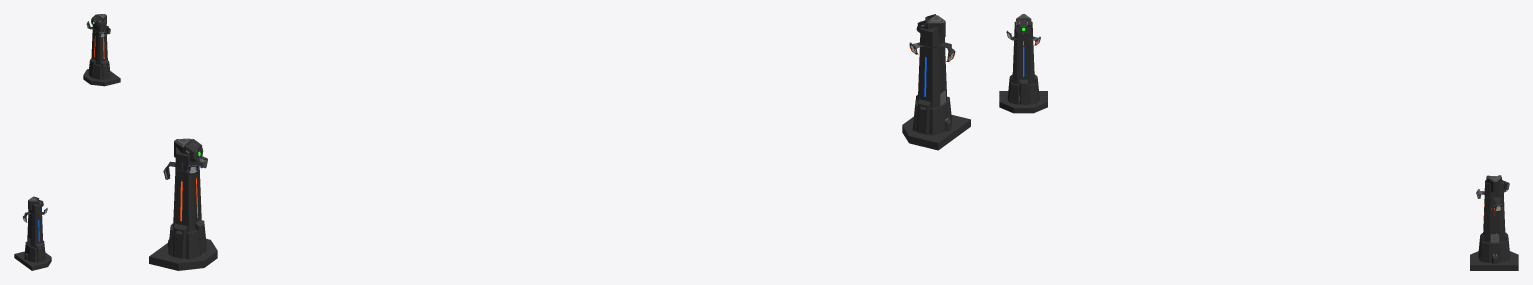
Rendered from OUTPOST.glb.
3 renders of one model, left to right at view 1: azimuth 30°, elevation 25°; view 2: azimuth 150°, elevation 25°; view 3: azimuth 270°, elevation 25°, orthographic. The views are drawn at different scales.
Visible parts, largest first — view 1: OUTPOST_2, OUTPOST_1, OUTPOST_A_ROTATE_AXIS; view 2: OUTPOST_2, OUTPOST_1; view 3: OUTPOST_2, OUTPOST_1.
Part boxes in pixels (x1,y1,x2,y2): OUTPOST_2: [14, 196, 51, 270]; OUTPOST_1: [83, 14, 120, 86]; OUTPOST_A_ROTATE_AXIS: [86, 21, 110, 34]; OUTPOST_2: [902, 14, 970, 150]; OUTPOST_1: [149, 138, 217, 270]; OUTPOST_2: [999, 14, 1047, 113]; OUTPOST_1: [1470, 175, 1518, 270].
Size of the model in its own units: 6.76 by 1.57 by 8.51.
